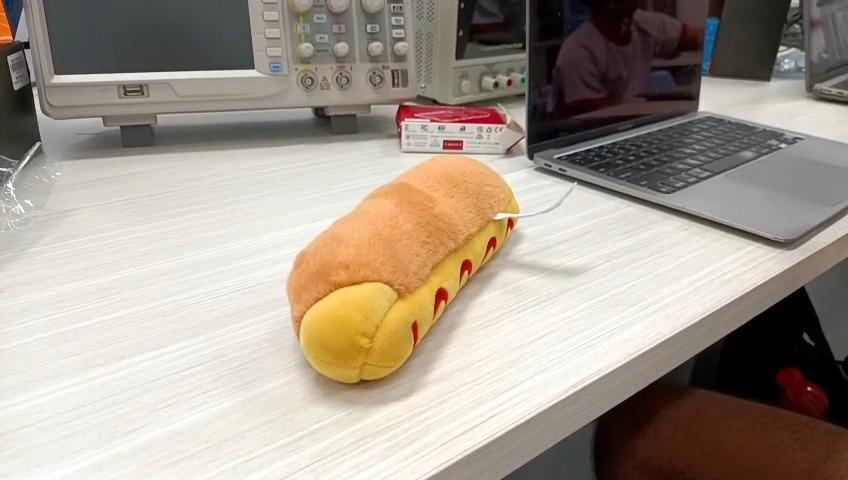hotdog: (288, 155, 521, 384)
